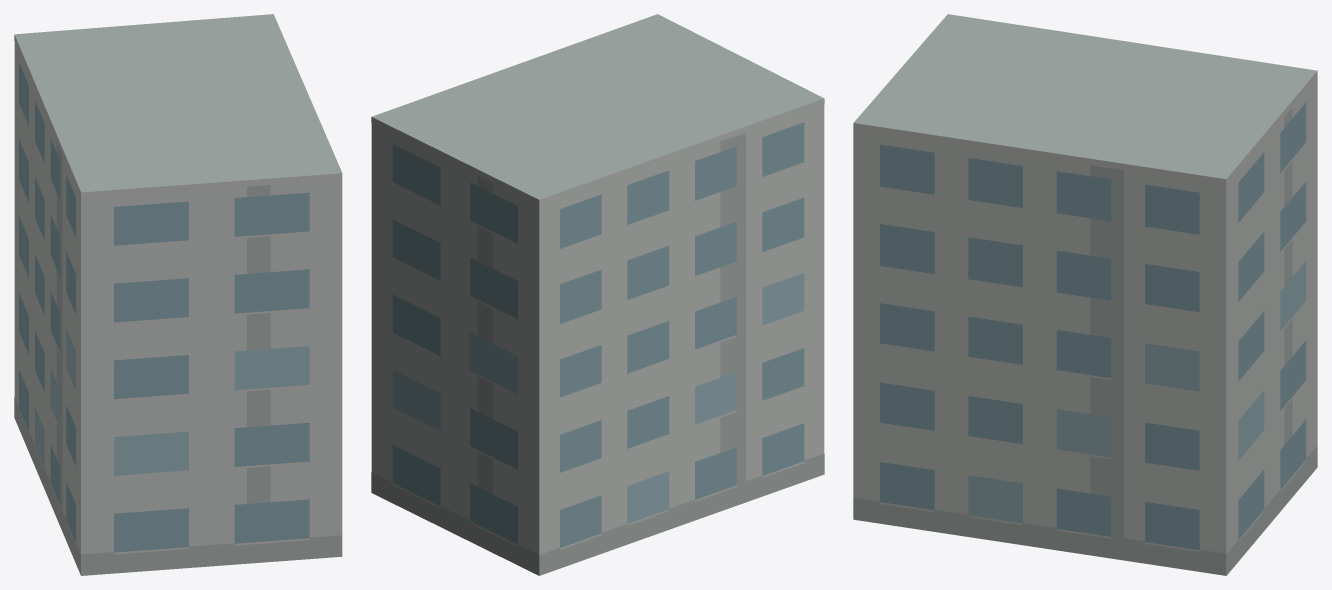
The model's file is survey-upis-32888412.glb.
The picture shows the model from 3 angles, left to right: view 1: azimuth 30°, elevation 25°; view 2: azimuth 150°, elevation 25°; view 3: azimuth 270°, elevation 25°; orthographic projection. The views are drawn at different scales.
Visible parts, largest first — view 1: survey-upis-32888412.tmp; view 2: survey-upis-32888412.tmp; view 3: survey-upis-32888412.tmp.
Part boxes in pixels (x1,y1,x2,y2): survey-upis-32888412.tmp: (14, 14, 342, 575); survey-upis-32888412.tmp: (371, 14, 824, 575); survey-upis-32888412.tmp: (853, 14, 1317, 575).
Size of the model in its own units: 12.99 by 14.53 by 15.42.
